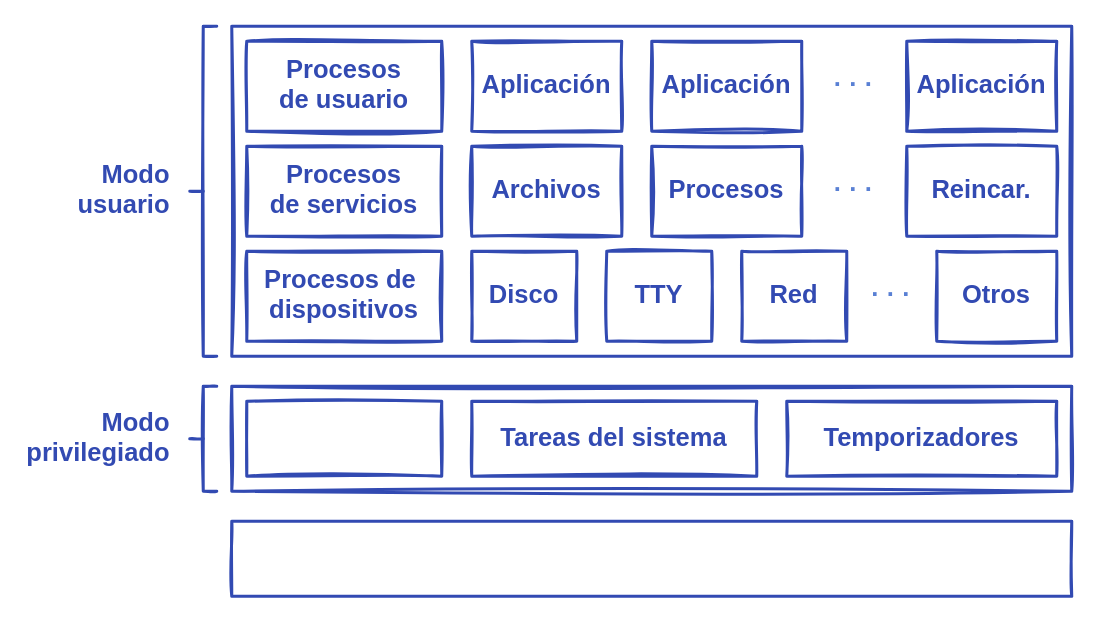
The diagram is 1098 pixels wide and 621 high, and some of its shapes have lost their labels. Here are the shapes that lost their labels. From the top down, the box of each, then its label:
(244, 399, 442, 477): Núcleo
(230, 519, 1072, 597): Hardware
